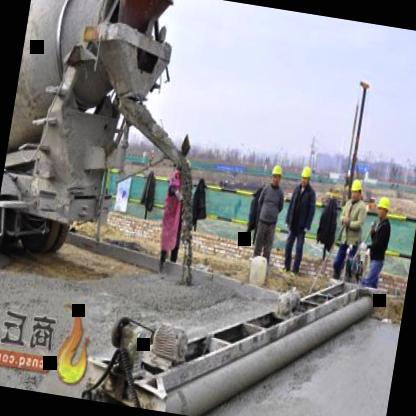helmet: (373, 192, 393, 226), (268, 160, 284, 190), (348, 176, 364, 205), (298, 164, 314, 190)
